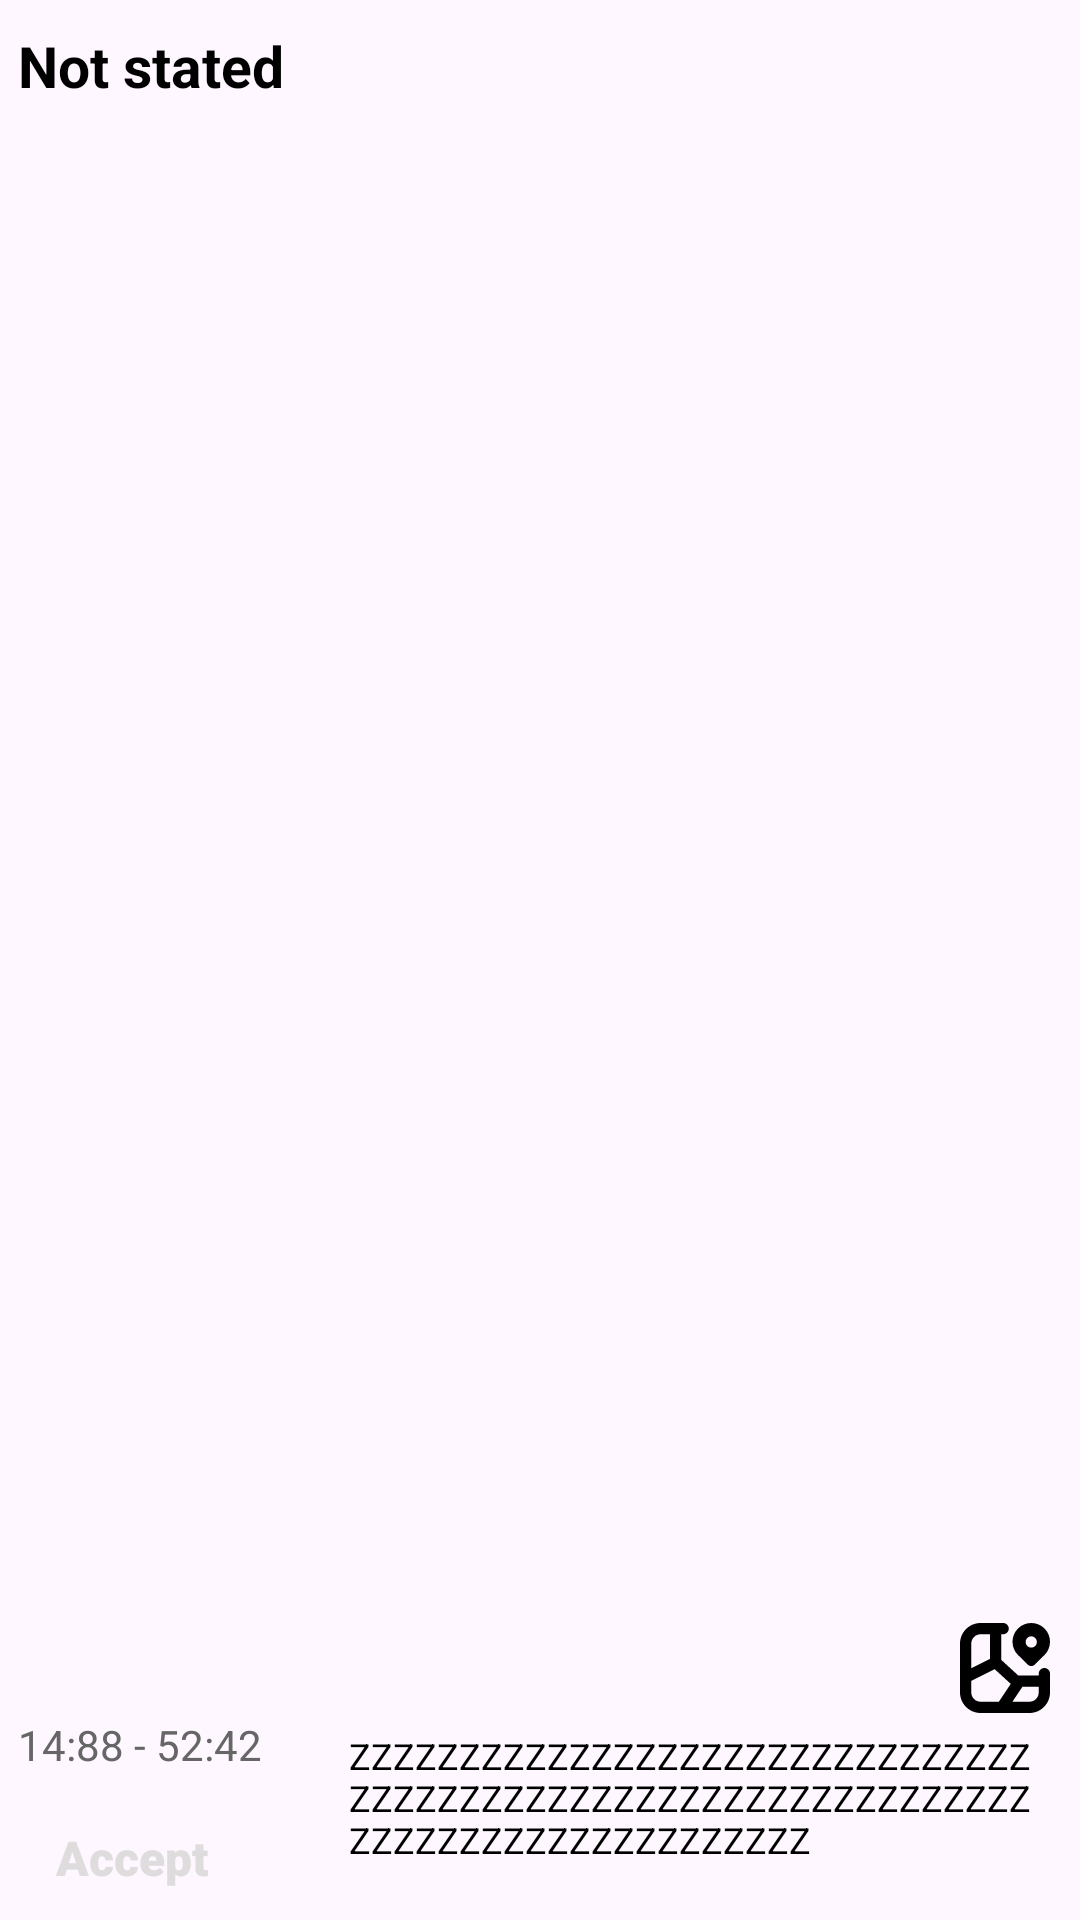

Point at icon controls on the screen. Image size 1080px×1920px, points as point (x, y).
region: point (1005, 1668)
